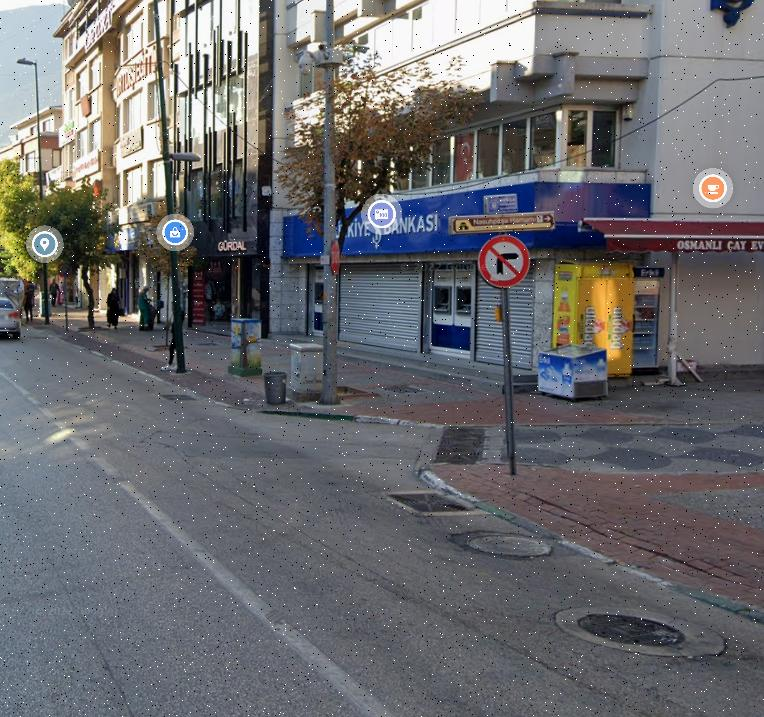rightturnsareforbidden: (472, 233, 533, 291)
